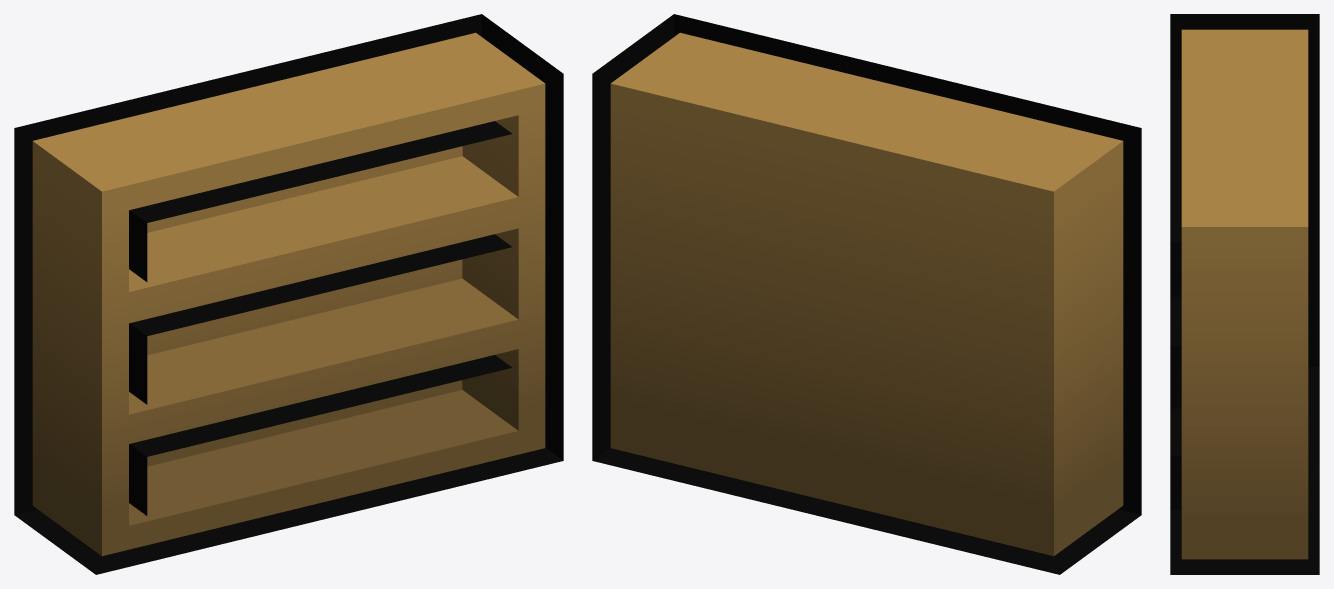
File: shelf type 1 outline.fbx
3 renders of one model, left to right at view 1: azimuth 30°, elevation 25°; view 2: azimuth 150°, elevation 25°; view 3: azimuth 270°, elevation 25°, orthographic. The views are drawn at different scales.
Visible parts, largest first — view 1: shelf.001; view 2: shelf.001; view 3: shelf.001.
Part boxes in pixels (box(x1,y1,x2,y2)): shelf.001: box(14, 14, 563, 574); shelf.001: box(592, 14, 1141, 574); shelf.001: box(1170, 14, 1319, 574).
Bounding box in the file's own units: 731 × 578 × 222.
1 material, 1 textured.
